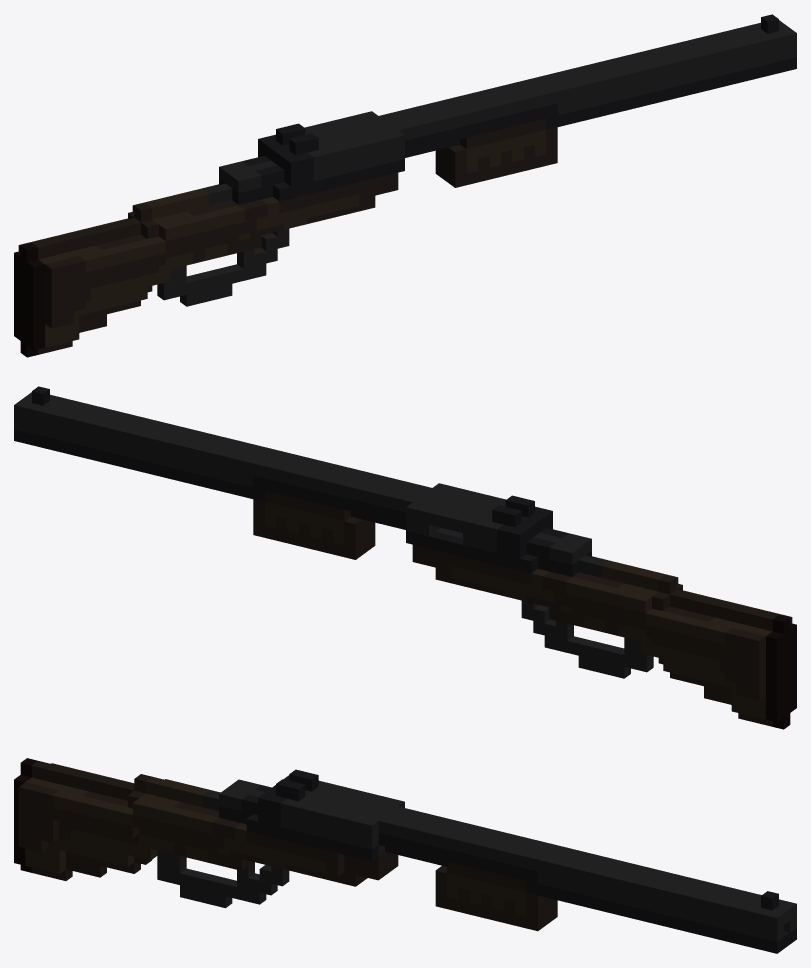
The model's file is shotgun3.obj.
The picture shows the model from 3 angles, top to bottom: view 1: azimuth 30°, elevation 25°; view 2: azimuth 150°, elevation 25°; view 3: azimuth 330°, elevation 25°; orthographic projection.
Parts seen in each view (by area): view 1: shotgun3-flat; view 2: shotgun3-flat; view 3: shotgun3-flat.
Boxes of the visible parts, x1,y1,x2,y2 form: shotgun3-flat: [14, 14, 796, 357]; shotgun3-flat: [14, 386, 796, 729]; shotgun3-flat: [14, 758, 796, 953].
Size of the model in its own units: 111 by 21.51 by 8.27.
